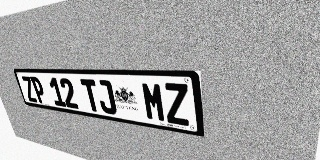1: (47, 77, 66, 107)
2: (58, 78, 79, 109)
J: (95, 80, 118, 115)
M: (141, 82, 167, 123)
P: (30, 77, 48, 104)
T: (80, 79, 102, 112)
Z: (163, 83, 191, 126), (21, 76, 38, 103)
